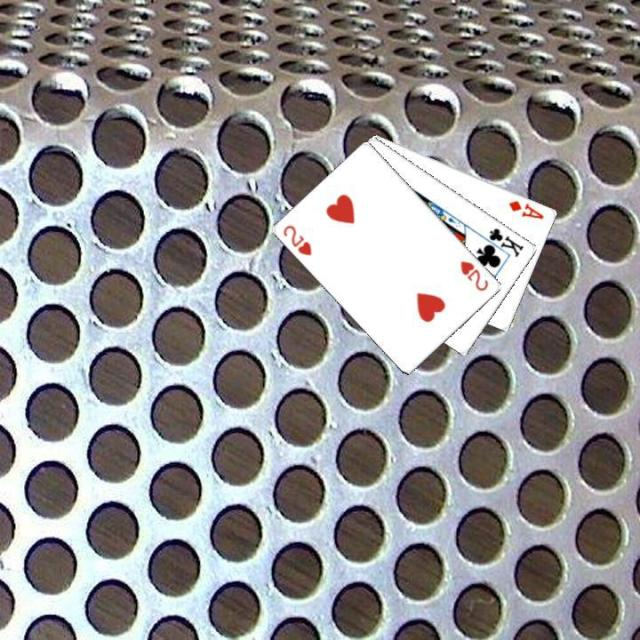2H: (280, 221, 314, 258), (457, 257, 491, 293)
AD: (505, 196, 546, 222)
KC: (478, 224, 526, 259)
